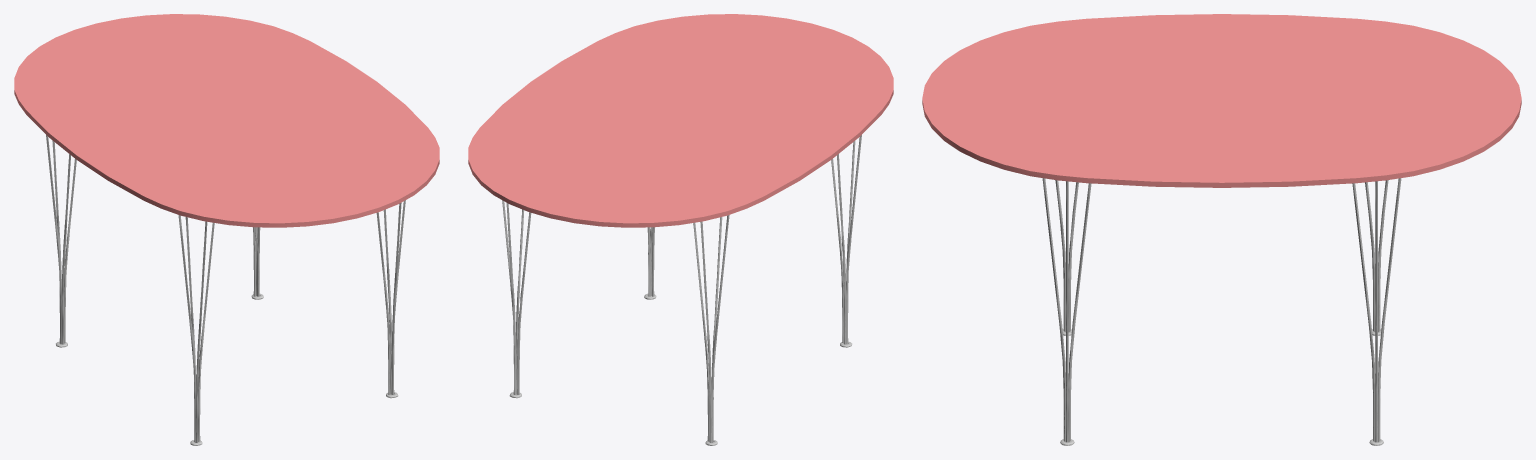
File: roundedTable.glb
3 views of the same model, side by side, from view 1: azimuth 30°, elevation 25°; view 2: azimuth 150°, elevation 25°; view 3: azimuth 270°, elevation 25° (orthographic). The views are drawn at different scales.
Visible parts, largest first — view 1: Object_28; view 2: Object_28; view 3: Object_28.
Part boxes in pixels (x1=…): Object_28: x1=14, y1=14, x2=439, y2=445; Object_28: x1=468, y1=14, x2=893, y2=445; Object_28: x1=922, y1=14, x2=1521, y2=445.
Size of the model in its own units: 2.95 by 2.36 by 4.42.
